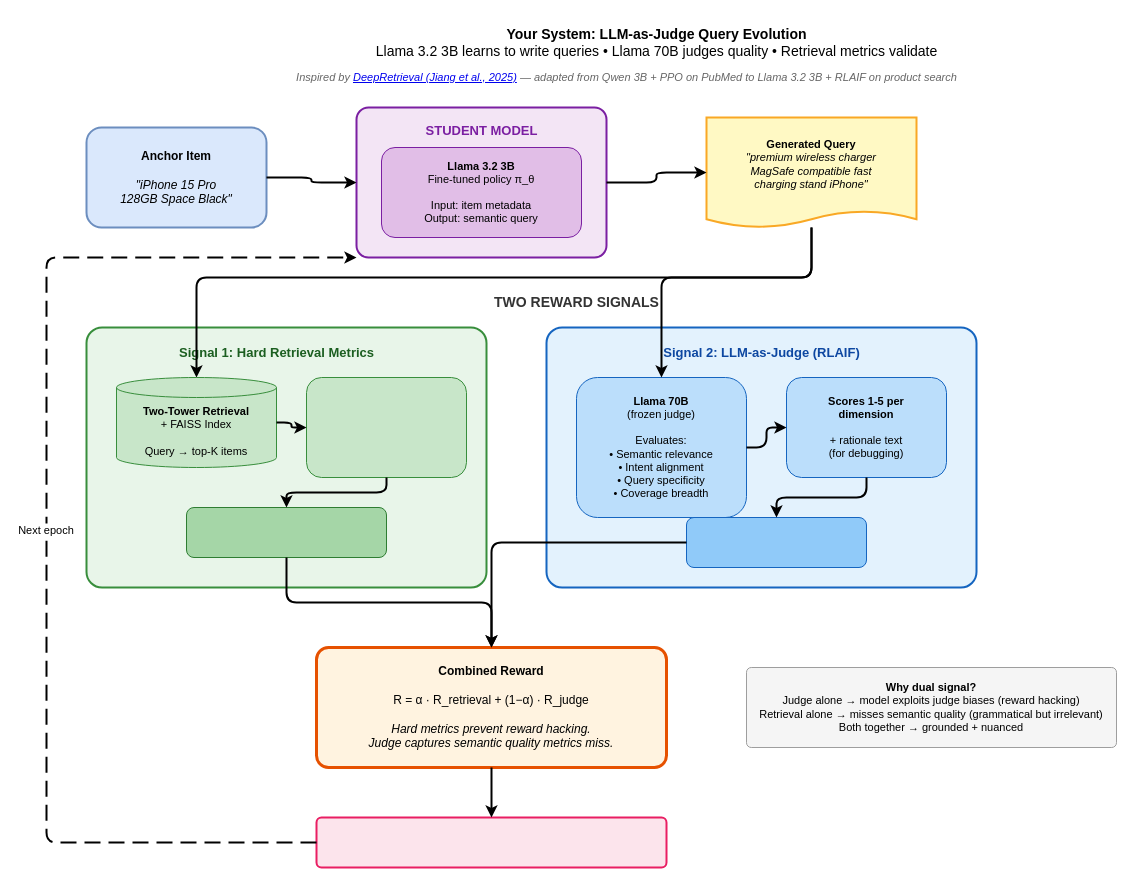
Image size: 1134x885. Some labels were removed from this diagram. The centre of each missing label's shape, as x and y in pixels:
Compute: • Recall @ K • Precision @ K • Relevance overlap with ground truth: pixel 386 427
PPO / GRPO Update Update Llama 3.2 3B weights: pixel 491 842
R_judge = 0.81 (normalized 0-1): pixel 776 542
R_retrieval = 0.72 (tiered: ≥0.7 → +5.0): pixel 286 532
